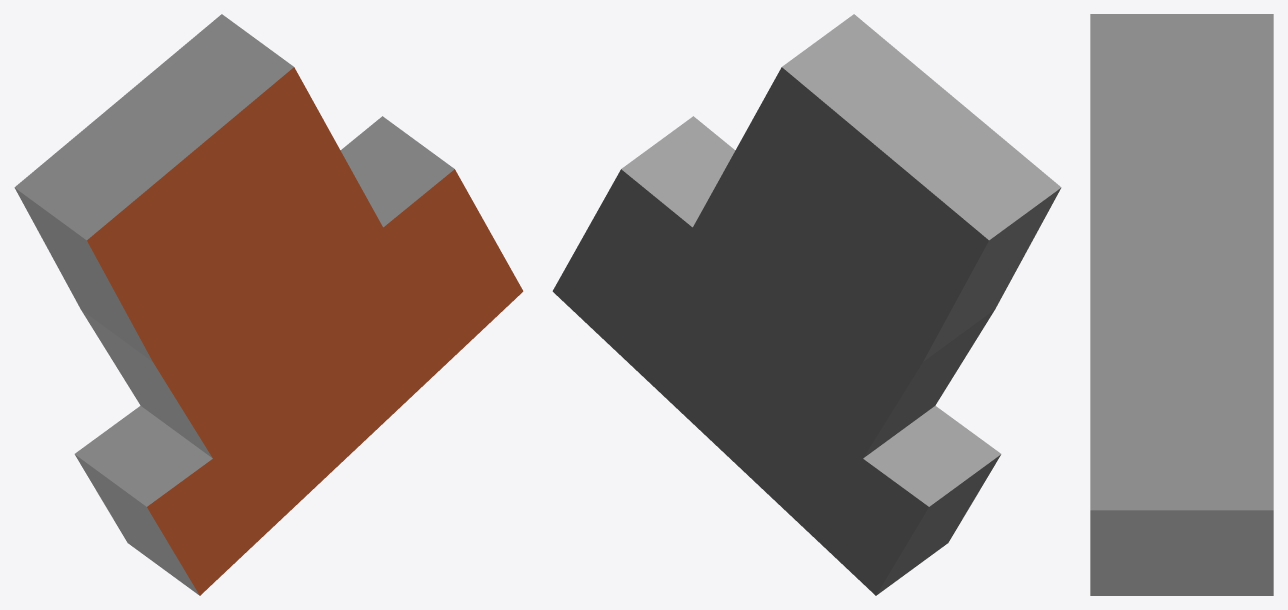
The model's file is construction_5363_assumed_A_Casa_h6m.obj.
3 renders of one model, left to right at view 1: azimuth 30°, elevation 25°; view 2: azimuth 150°, elevation 25°; view 3: azimuth 270°, elevation 25°, orthographic. The views are drawn at different scales.
Visible parts, largest first — view 1: construction_5363_assumed_A_Casa; view 2: construction_5363_assumed_A_Casa; view 3: construction_5363_assumed_A_Casa.
Boxes of the visible parts, x1=… form: construction_5363_assumed_A_Casa: x1=14, y1=14, x2=523, y2=595; construction_5363_assumed_A_Casa: x1=552, y1=14, x2=1061, y2=595; construction_5363_assumed_A_Casa: x1=1090, y1=14, x2=1273, y2=595.
Size of the model in its own units: 20.9 by 23.14 by 6.
